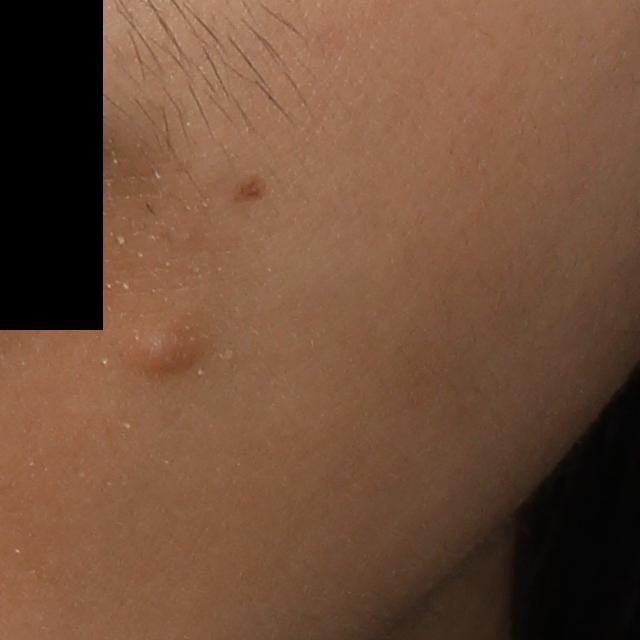nevus: (232, 172, 267, 203)
papule: (129, 317, 203, 382)
